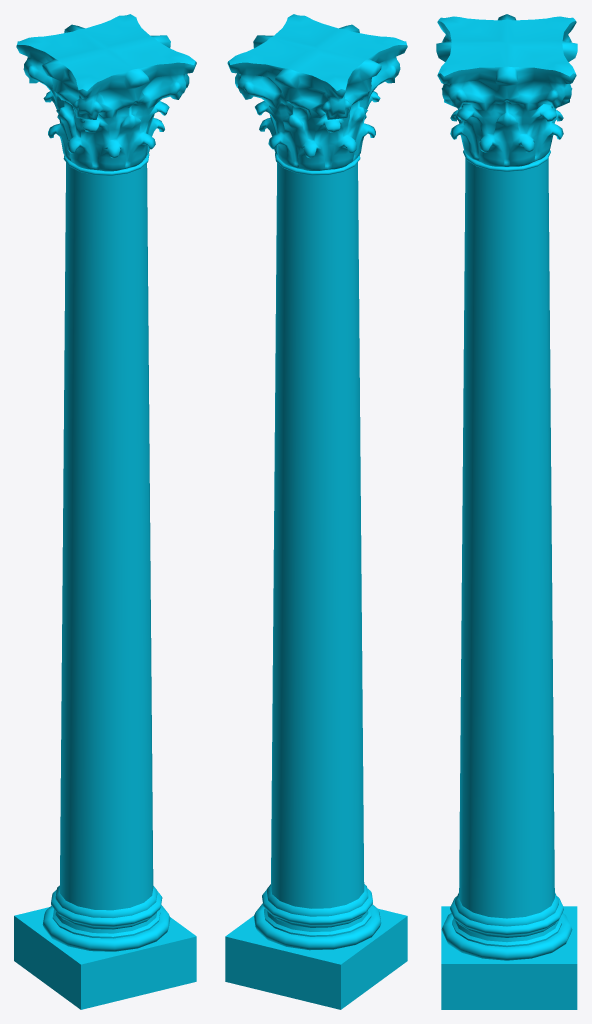
File: Peter_Pillar.FBX
The picture shows the model from 3 angles, left to right: view 1: azimuth 30°, elevation 25°; view 2: azimuth 150°, elevation 25°; view 3: azimuth 270°, elevation 25°; orthographic projection.
Visible parts, largest first — view 1: Object001; view 2: Object001; view 3: Object001.
Boxes of the visible parts, x1,y1,x2,y2 form: Object001: (14, 14, 196, 1009); Object001: (225, 14, 407, 1009); Object001: (436, 14, 577, 1009).
Bounding box in the file's own units: 375 × 2740 × 375.
